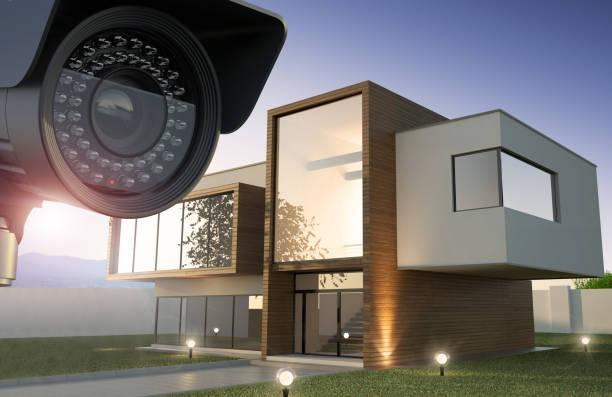camera: (0, 0, 298, 252)
